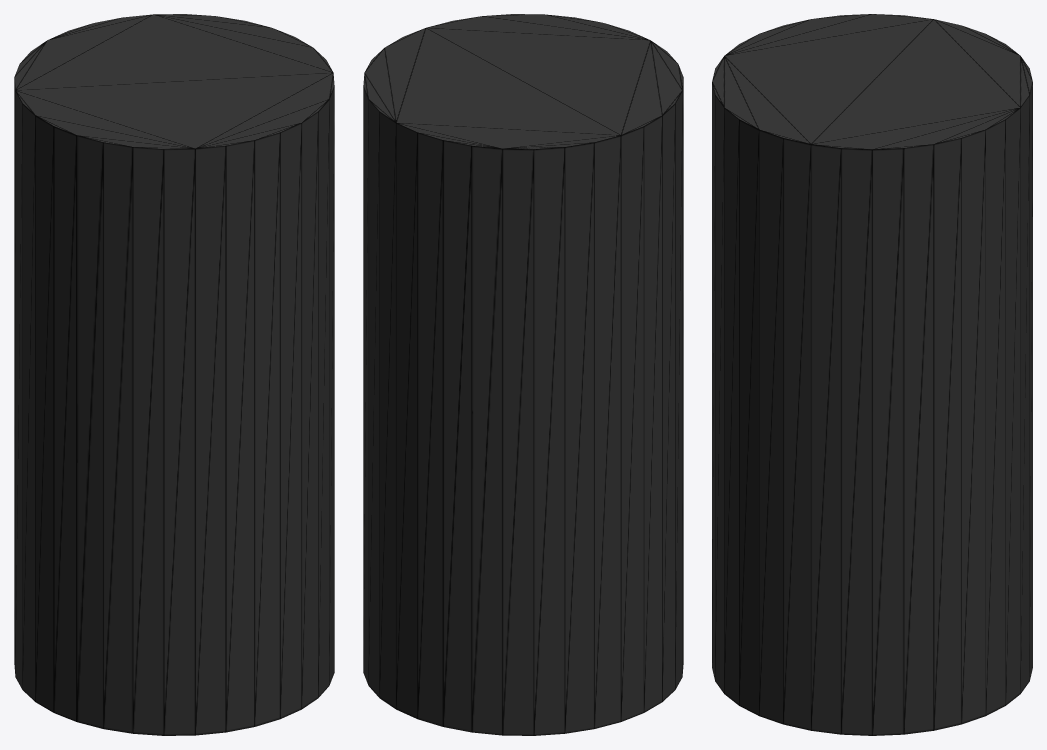
File: cylinder-tall.fbx
3 views of the same model, side by side, from view 1: azimuth 30°, elevation 25°; view 2: azimuth 150°, elevation 25°; view 3: azimuth 270°, elevation 25° (orthographic).
Visible parts, largest first — view 1: Cylinder; view 2: Cylinder; view 3: Cylinder.
Part boxes in pixels (<box>): Cylinder: <box>14,14,334,735</box>; Cylinder: <box>363,14,683,735</box>; Cylinder: <box>712,14,1032,735</box>.
Size of the model in its own units: 101 by 204 by 101.
